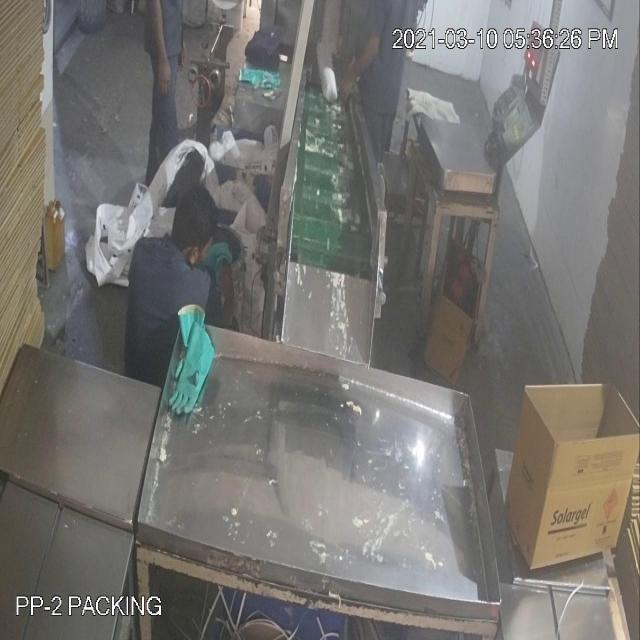No_Gloves: (143, 1, 175, 97)
